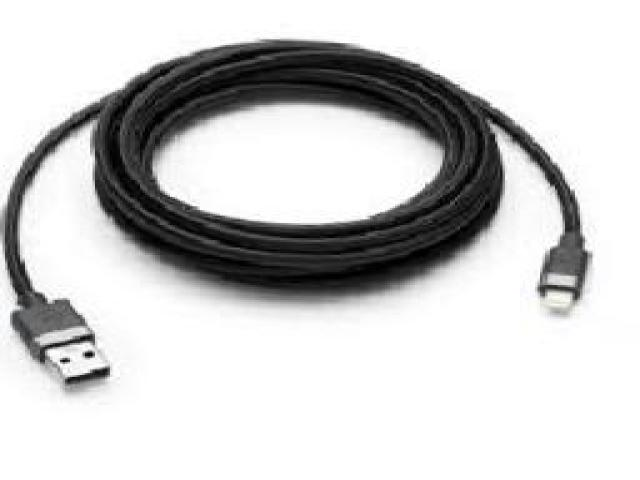wire: (0, 35, 592, 384)
